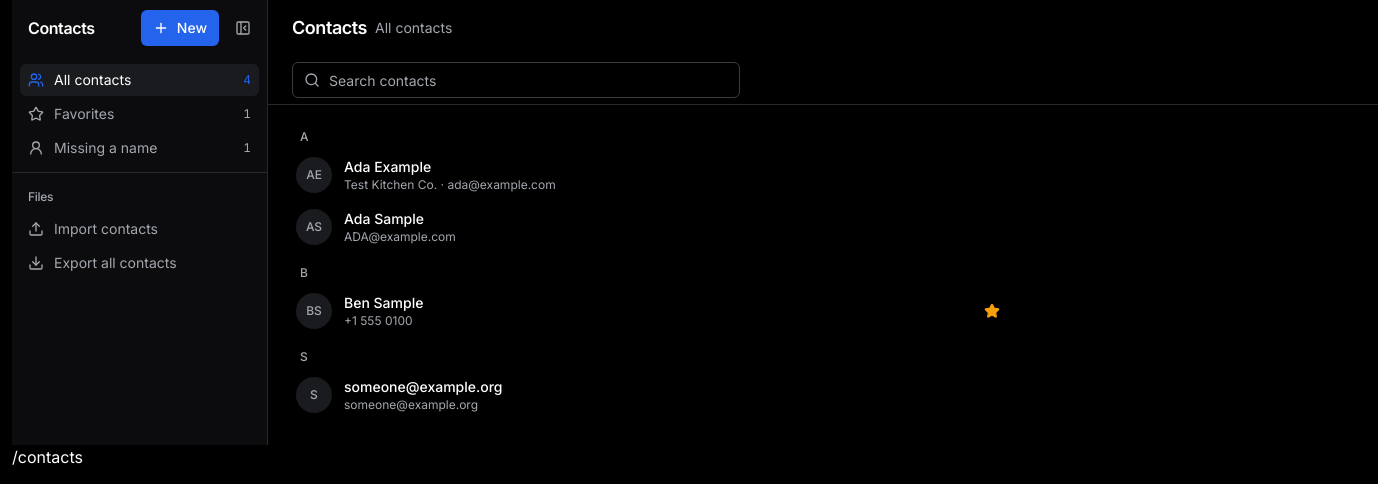
Test: Contacts › selects with Ctrl+click and Shift+click without opening, and clears with Escape
The image size is (1378, 484).
Click the button "Ada Example Test Kitchen Co. · ada@example.com": (388,166) [344,149,964,201]
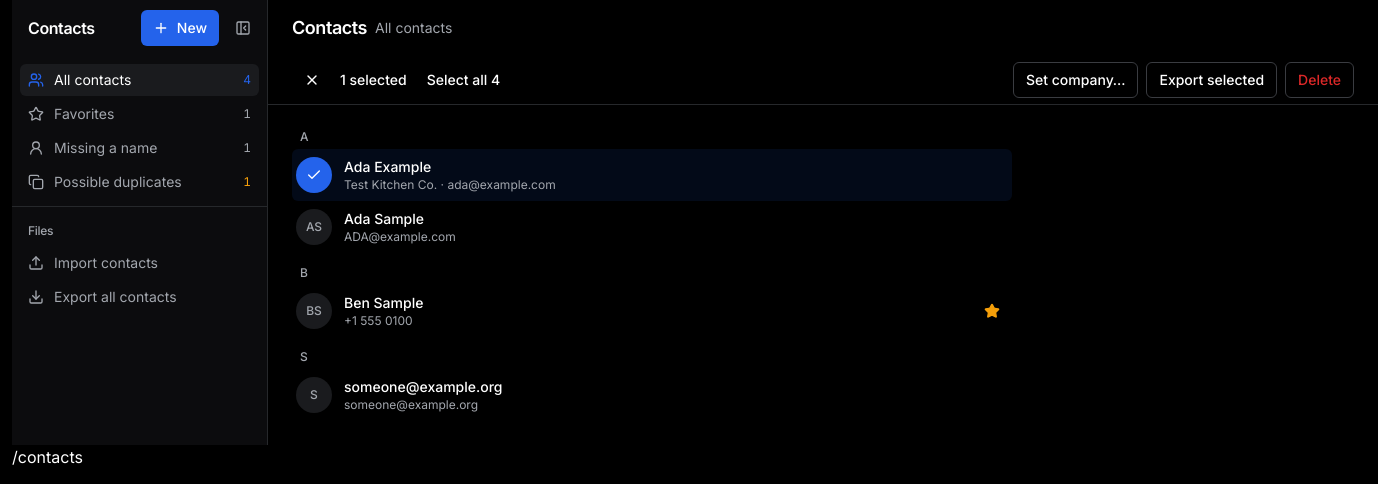
Expected: the text with test id "location" reads "/contacts", [12,447,83,467]
Result: the text "1 selected" is shown at [340,70,407,90]
Click the button "Ben Sample +1 555 0100": (384,302) [344,285,964,337]
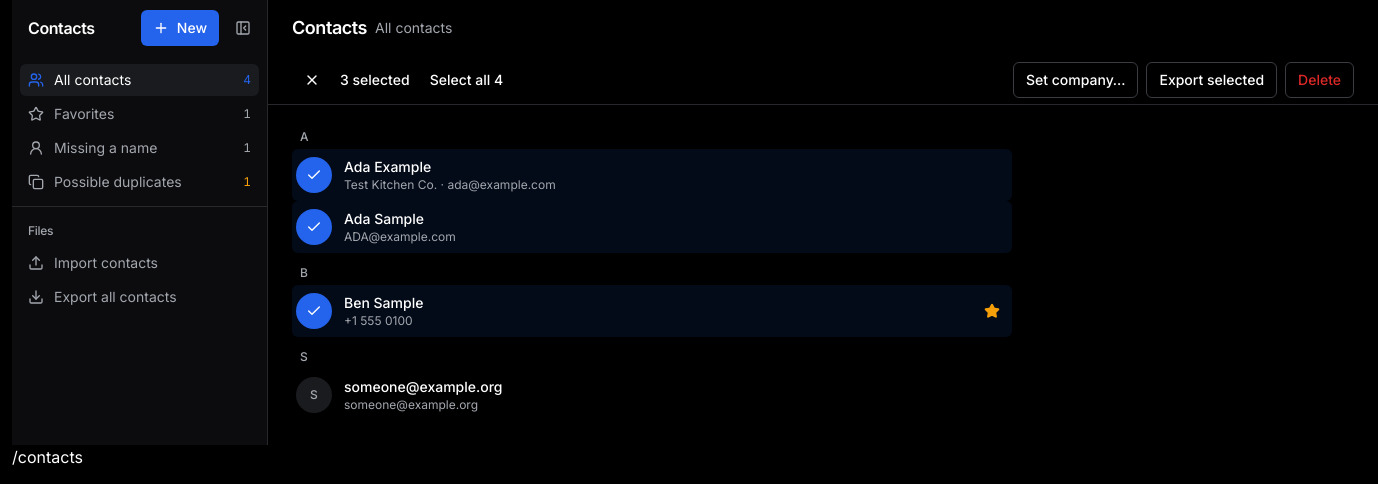
Result: the text "3 selected" is shown at [340,70,410,90]
Press Escape
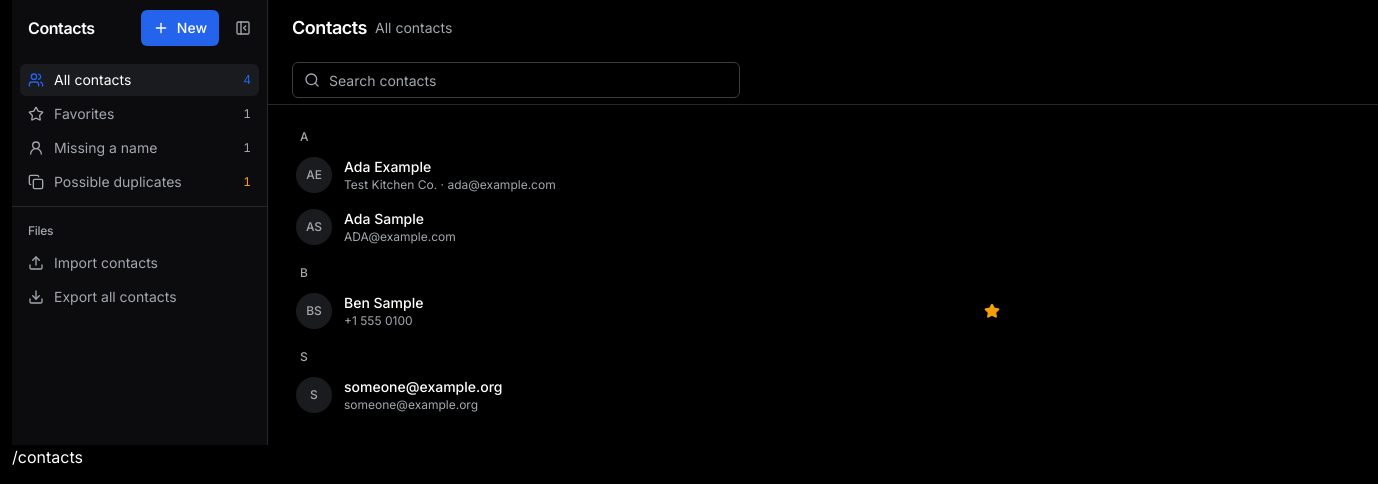
Result: the text "3 selected" is gone
